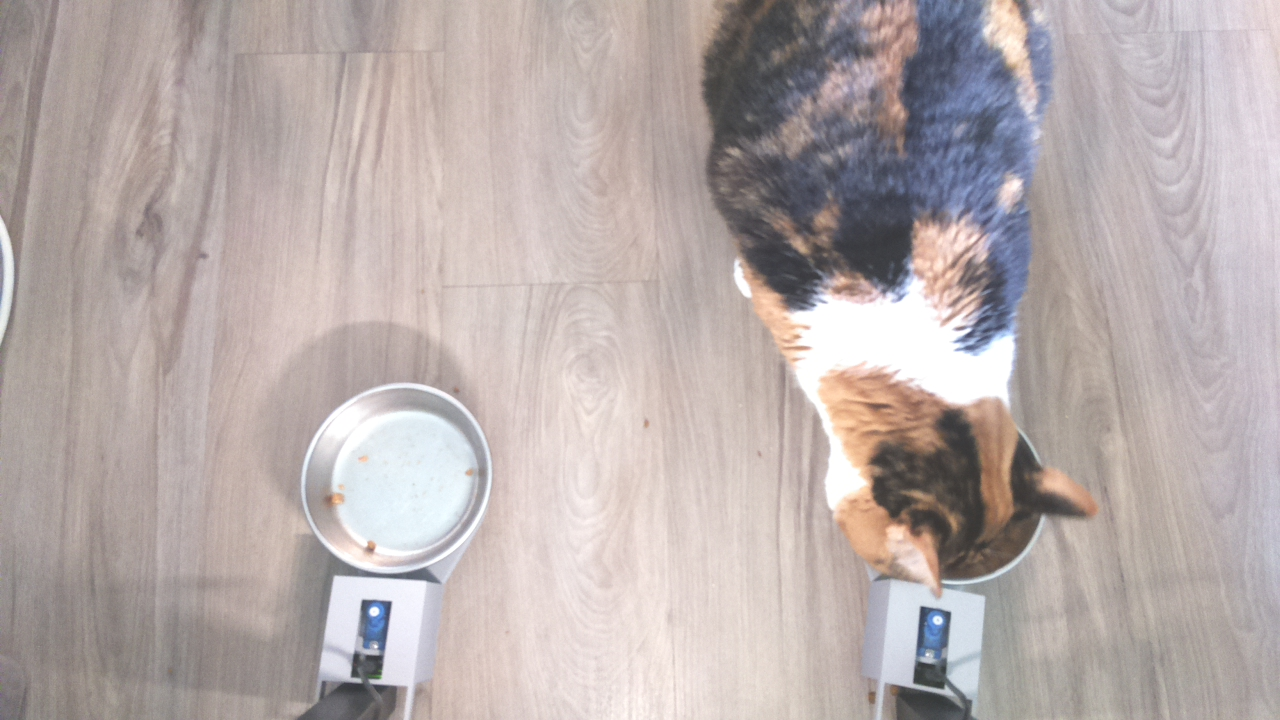bella_eating: (786, 322, 1101, 592)
open_bowl: (293, 378, 497, 582)
